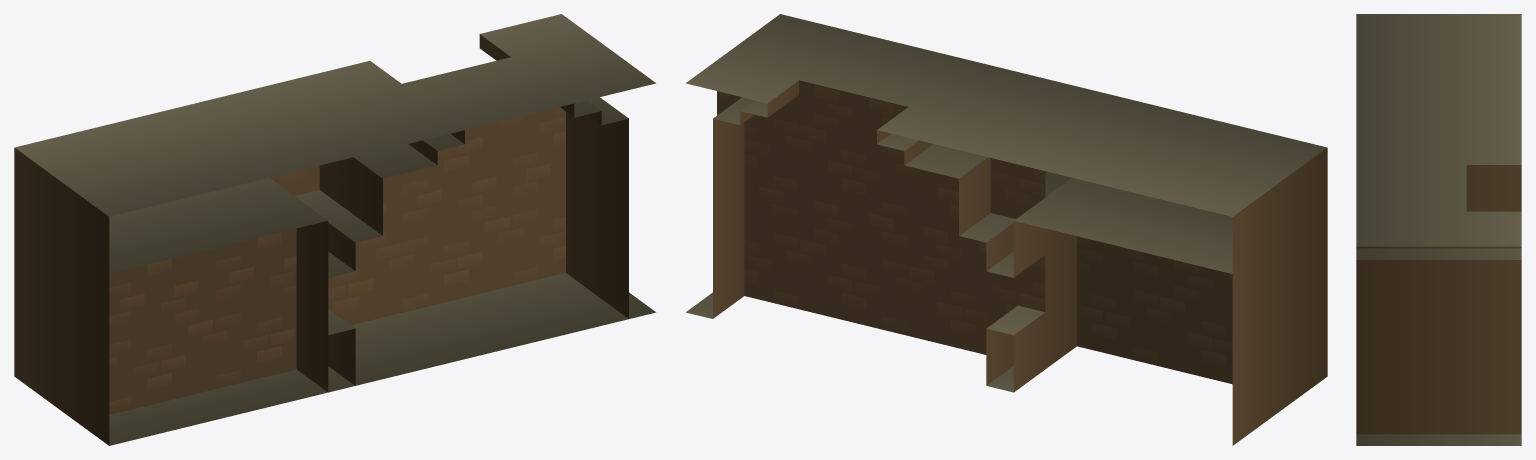
The model's file is SM_GunRoom2.fbx.
3 renders of one model, left to right at view 1: azimuth 30°, elevation 25°; view 2: azimuth 150°, elevation 25°; view 3: azimuth 270°, elevation 25°, orthographic. The views are drawn at different scales.
Visible parts, largest first — view 1: SM_GunRoom2; view 2: SM_GunRoom2; view 3: SM_GunRoom2.
Boxes of the visible parts, box(x1,y1,x2,y2) form: SM_GunRoom2: box(14, 14, 655, 445); SM_GunRoom2: box(686, 14, 1327, 445); SM_GunRoom2: box(1356, 14, 1521, 445).
Size of the model in its own units: 2000 by 600 by 800.
